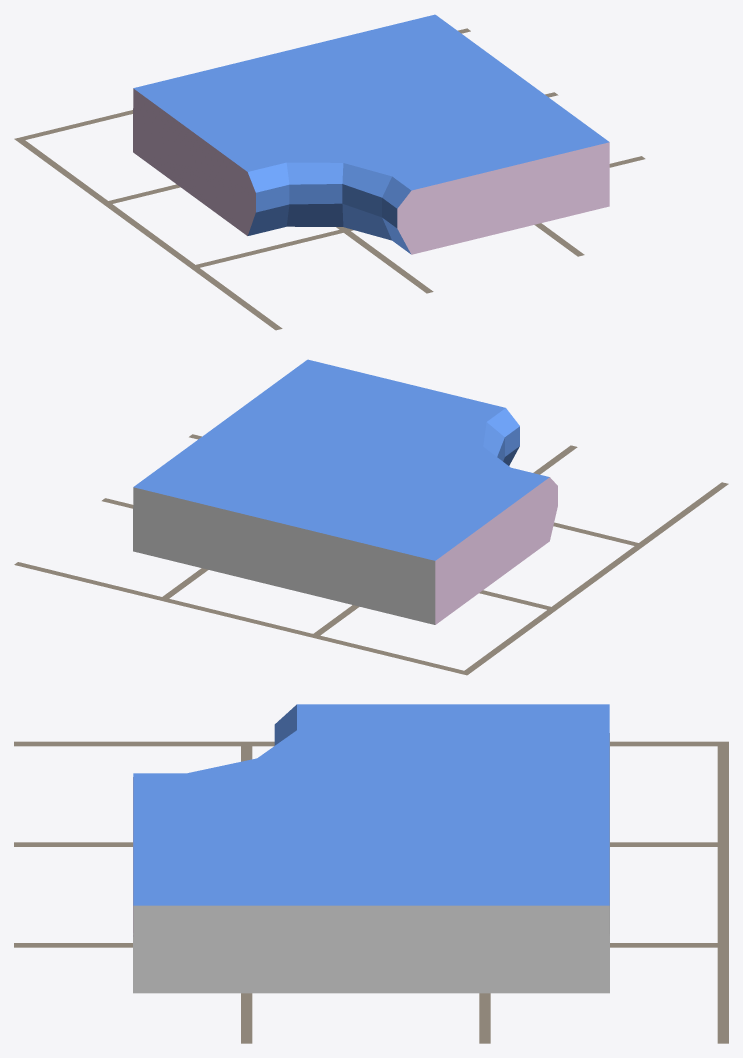
File: Iceberg_Curve_Inner_2x2_1.glb
3 renders of one model, top to bottom at view 1: azimuth 30°, elevation 25°; view 2: azimuth 150°, elevation 25°; view 3: azimuth 270°, elevation 25°, orthographic. The views are drawn at different scales.
Parts seen in each view (by area): view 1: Iceberg_Curve_Inner_2x2_1, Floor; view 2: Iceberg_Curve_Inner_2x2_1, Floor; view 3: Iceberg_Curve_Inner_2x2_1, Floor.
Boxes of the visible parts, x1=… form: Iceberg_Curve_Inner_2x2_1: x1=133, y1=14, x2=609, y2=254; Floor: x1=14, y1=28, x2=645, y2=330; Iceberg_Curve_Inner_2x2_1: x1=133, y1=359, x2=557, y2=624; Floor: x1=14, y1=434, x2=728, y2=675; Iceberg_Curve_Inner_2x2_1: x1=133, y1=704, x2=609, y2=993; Floor: x1=14, y1=741, x2=728, y2=1043.
Size of the model in its own units: 300 by 40.63 by 300.
Materials: 4 (1 with a texture image).
